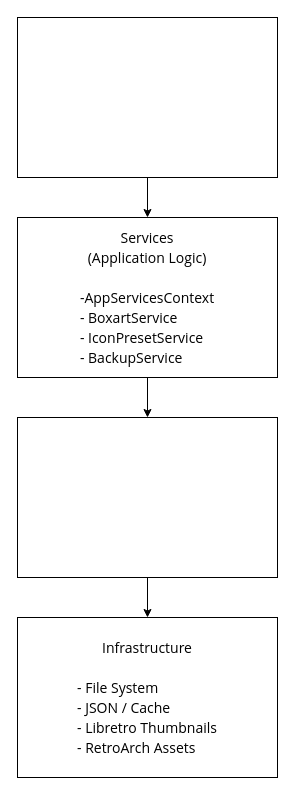
Some shapes in this 295 by 795 pixel diagram are drawn without their labels. The centre of each missing label's shape, as x and y in pixels:
Core / Domain - PlaylistBuilder - Icon Simulation - Models: (x=147, y=497)
UI (WinForms) Presentation Layer - FrmSplash - MainForm - FrmAbout: (x=147, y=97)
